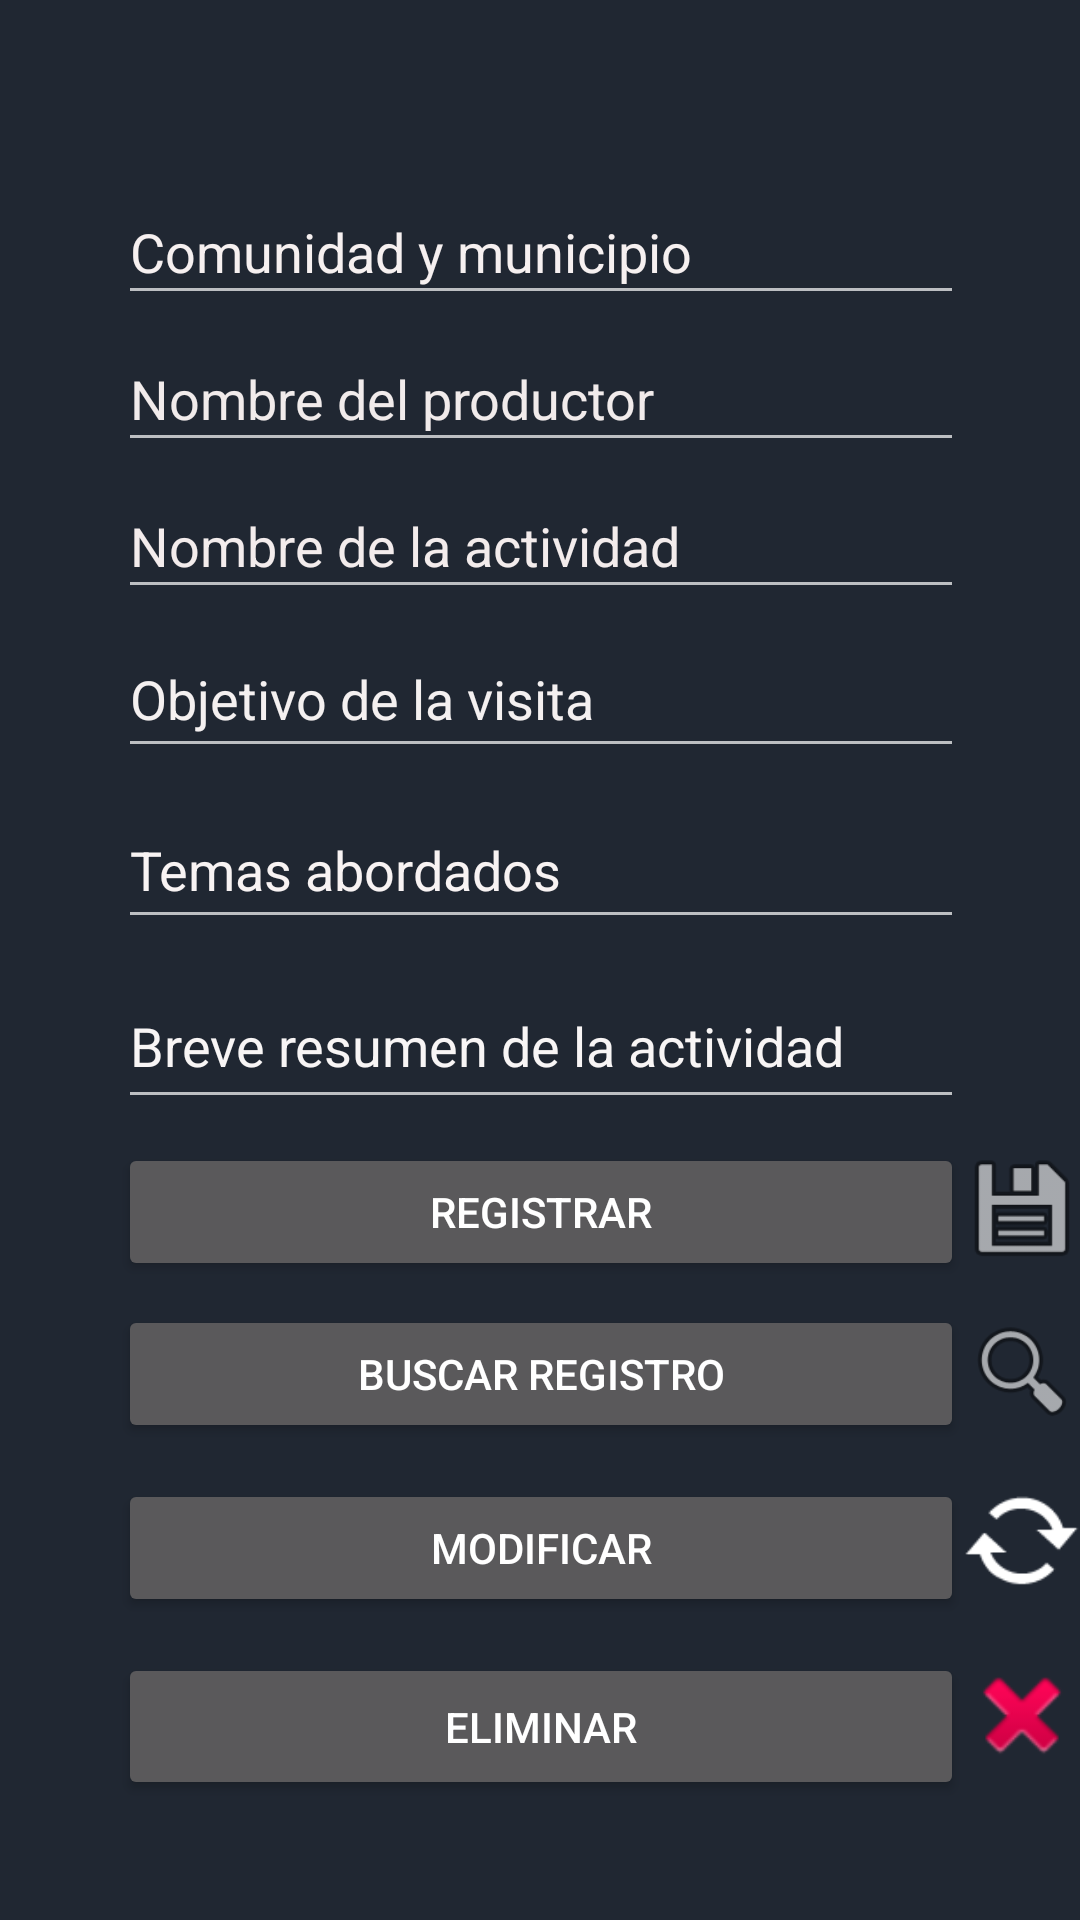

Icons on this 1080px×1920px Android screen, each with the point to tap as point (x, y):
delete: point (1022, 1715)
save: point (1022, 1207)
search: point (1022, 1371)
sync: point (1021, 1540)
